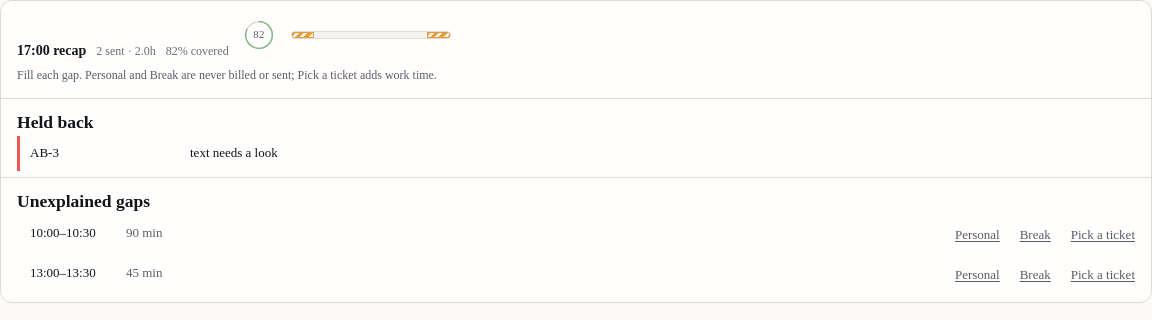
RecapBanner gap actions › shows the updated recap after a gap is resolved
Click the button "Break" in the row of "10:00–10:30" at [1035, 236], box left=1020, top=224, right=1051, bottom=248
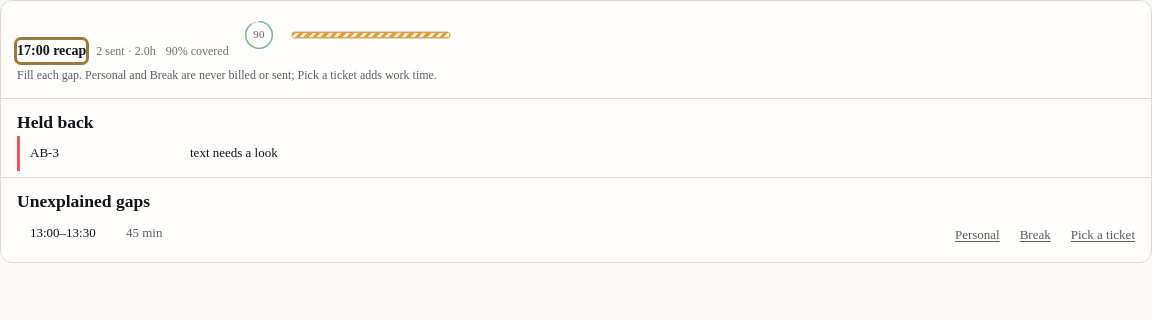
Expected: the text "90% covered" is shown, left=166, top=42, right=229, bottom=61
Expected: the number of buttons "Break" is 1, left=1020, top=224, right=1051, bottom=248
